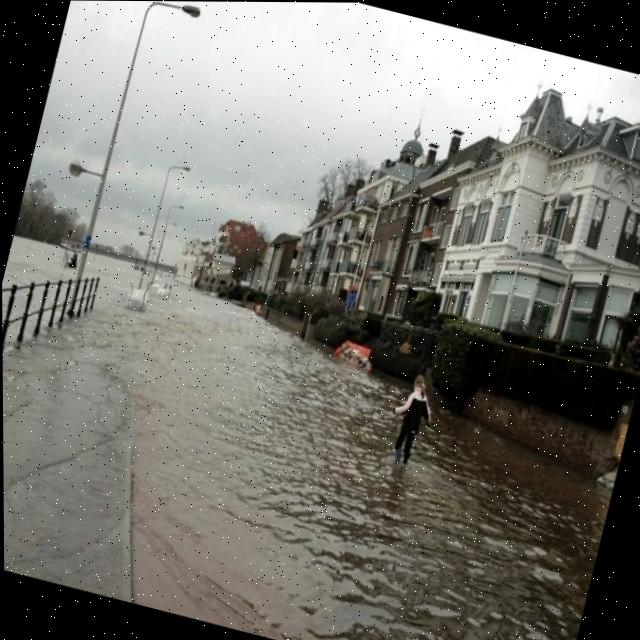civilian: (370, 358, 455, 479)
